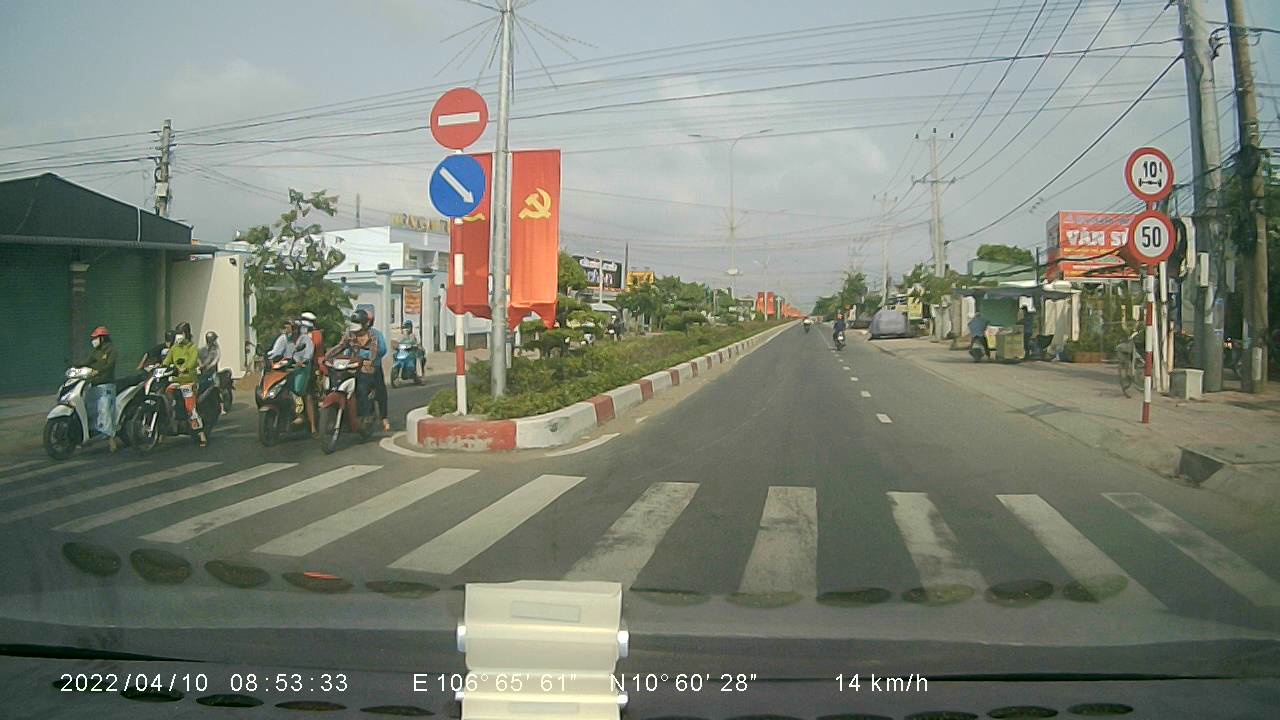Bien khac: (1125, 208, 1180, 268), (1121, 144, 1176, 202)
Cam di nguoc chieu: (426, 82, 490, 149)
Huong di phai re phai: (427, 151, 488, 219)
